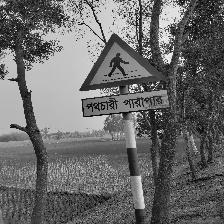Pedestrian-crossing: (79, 34, 170, 118)
